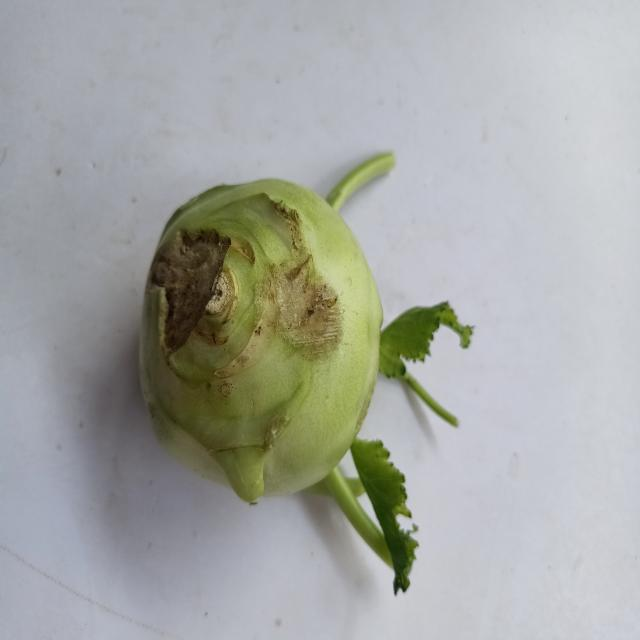Turnip: (121, 124, 486, 611)
